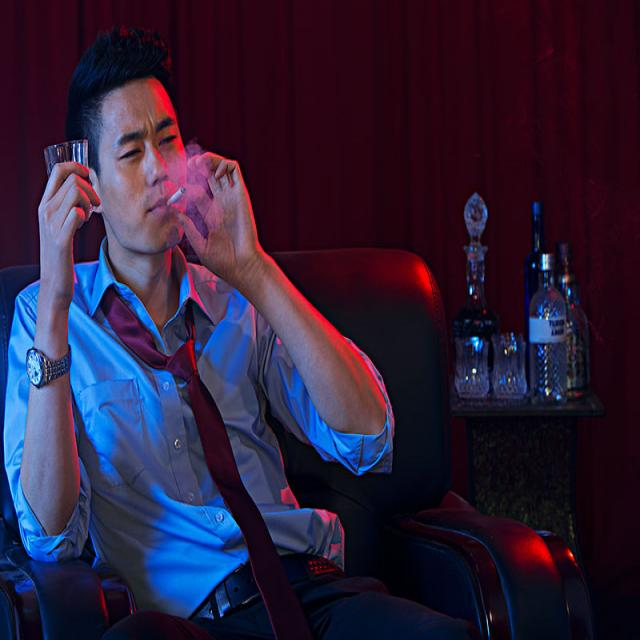smoking: (160, 184, 187, 213)
